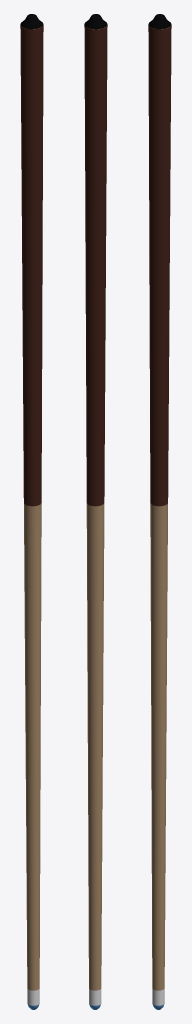
Rendered from DVIC_cue.glb.
3 views of the same model, side by side, from view 1: azimuth 90°, elevation 25°; view 2: azimuth 210°, elevation 25°; view 3: azimuth 270°, elevation 25° (orthographic).
Visible parts, largest first — view 1: cue; view 2: cue; view 3: cue.
Boxes of the visible parts, x1,y1,x2,y2 form: cue: (20,14,43,1009); cue: (84,14,107,1009); cue: (148,14,171,1009).
Bounding box in the file's own units: 10 × 475 × 10.
